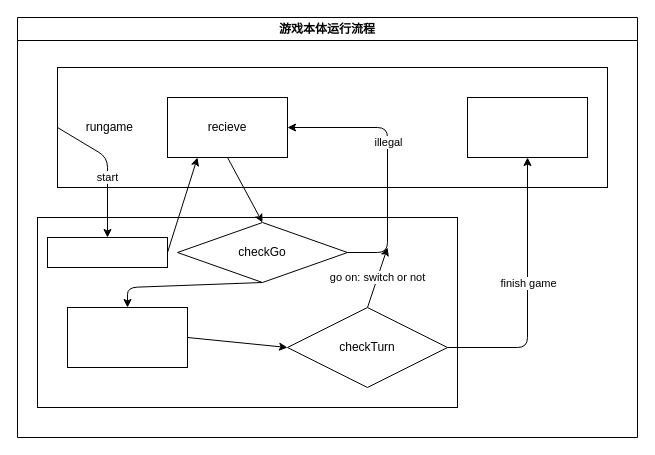
The diagram is 655 pixels wide and 455 high, and some of its shapes have lost their labels. The shapes that lost their labels are listed below. From the top down, each one's centre as x and y in pixels, then its label:
At point (527, 127): "exit".
At point (107, 252): "init".
At point (127, 337): "go".
